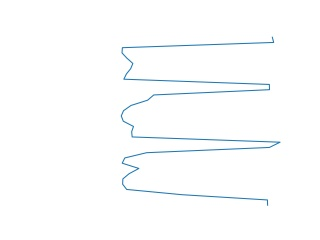majorRiverChannelBar: (118, 37, 282, 205)
